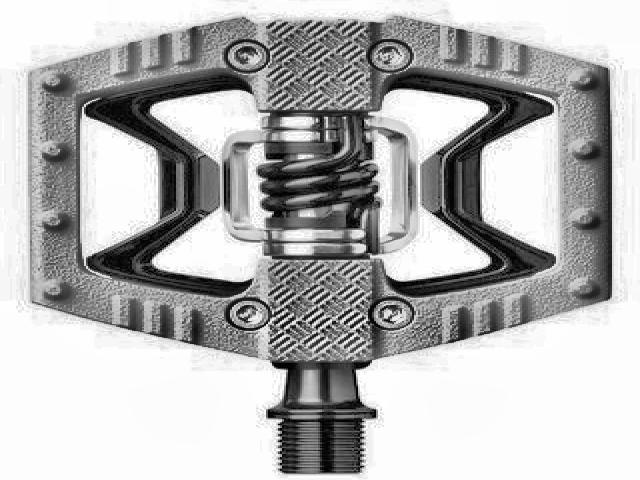pedal: (25, 12, 620, 474)
